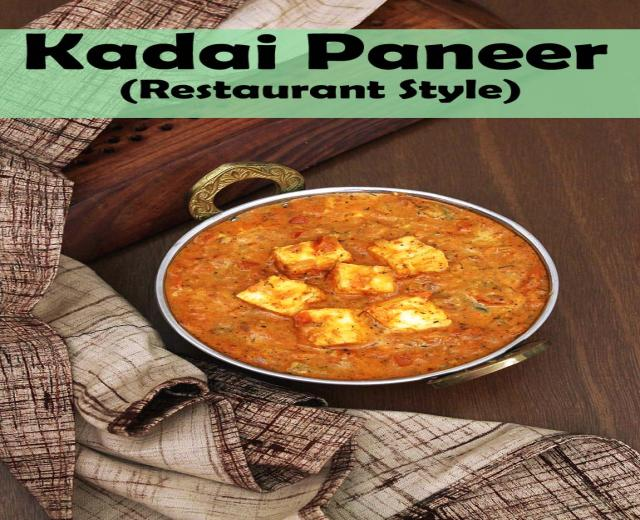kadai paneer: (152, 185, 554, 384)
